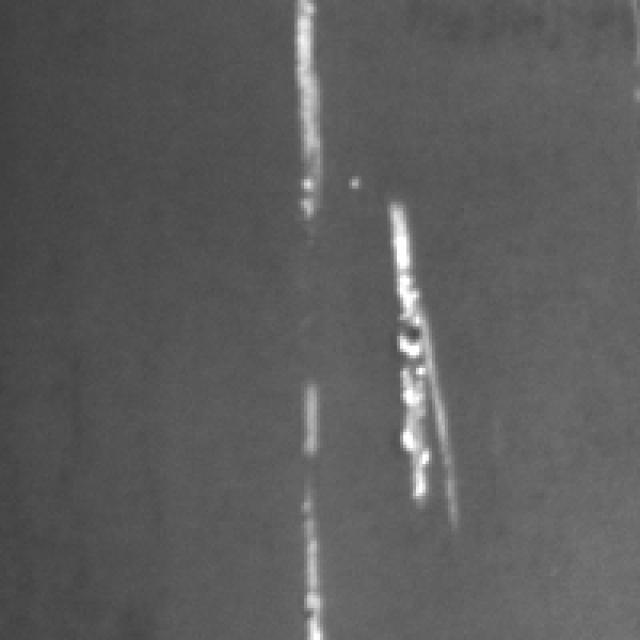scratches: (391, 198, 445, 508), (282, 0, 326, 231), (296, 379, 331, 640)
